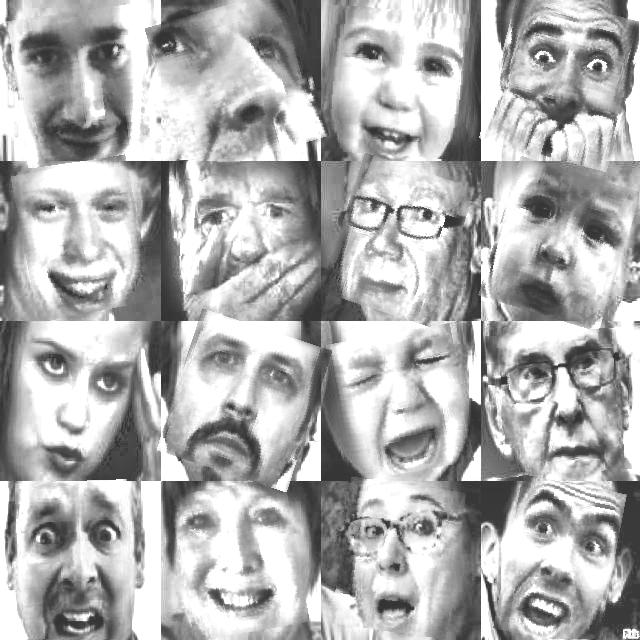angry: (500, 478, 620, 640)
fear: (488, 0, 637, 165), (171, 161, 317, 316), (330, 160, 466, 320), (336, 481, 462, 635), (16, 480, 131, 640)
happy: (12, 7, 151, 164), (326, 8, 468, 158), (17, 159, 146, 318), (175, 481, 304, 637)
neutral: (166, 317, 323, 484), (488, 330, 630, 476), (18, 321, 140, 473)
sad: (154, 0, 319, 167), (488, 163, 632, 324), (330, 328, 468, 478)
